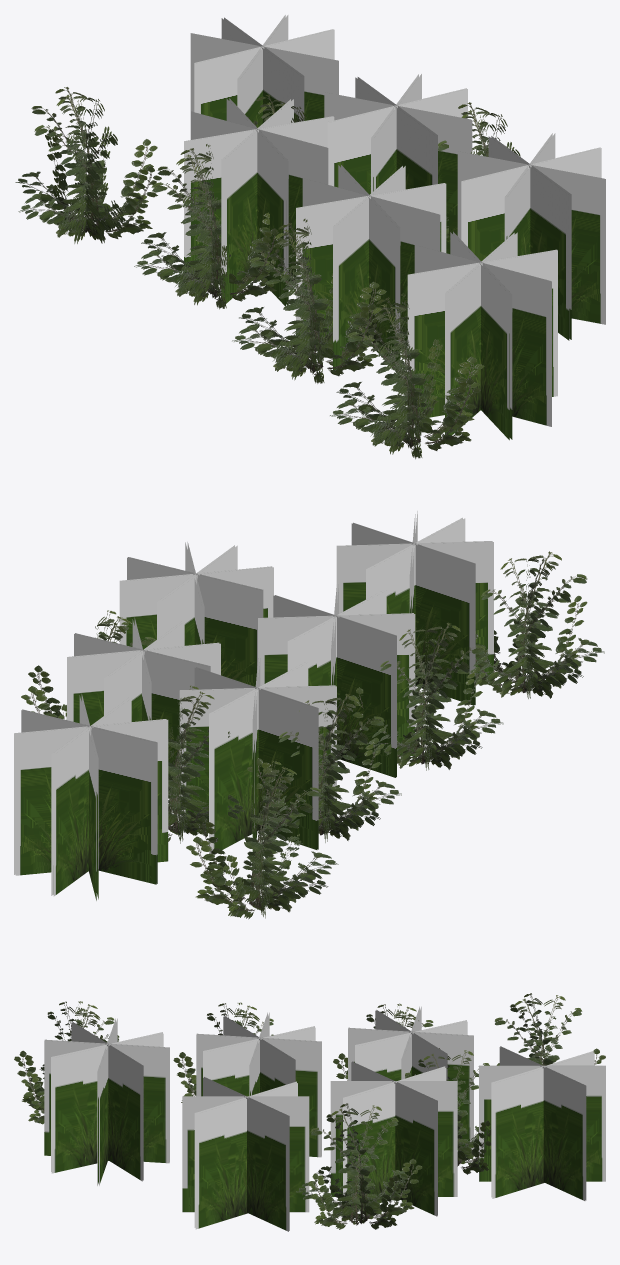
Rendered from grass new.fbx.
3 renders of one model, top to bottom at view 1: azimuth 30°, elevation 25°; view 2: azimuth 150°, elevation 25°; view 3: azimuth 270°, elevation 25°, orthographic. The views are drawn at different scales.
Parts seen in each view (by area): view 1: grasss; view 2: grasss; view 3: grasss.
Boxes of the visible parts, left/top/right/bottom form: grasss: left=15, top=15, right=605, bottom=459; grasss: left=14, top=511, right=604, bottom=919; grasss: left=14, top=993, right=605, bottom=1231.
Bounding box in the file's own units: 6.11 × 2.02 × 9.33.
Materials: 2 (2 with a texture image).
